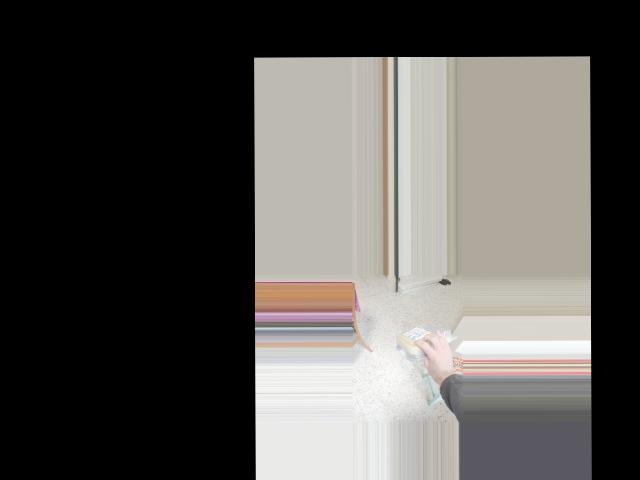cheese: (395, 325, 456, 355)
